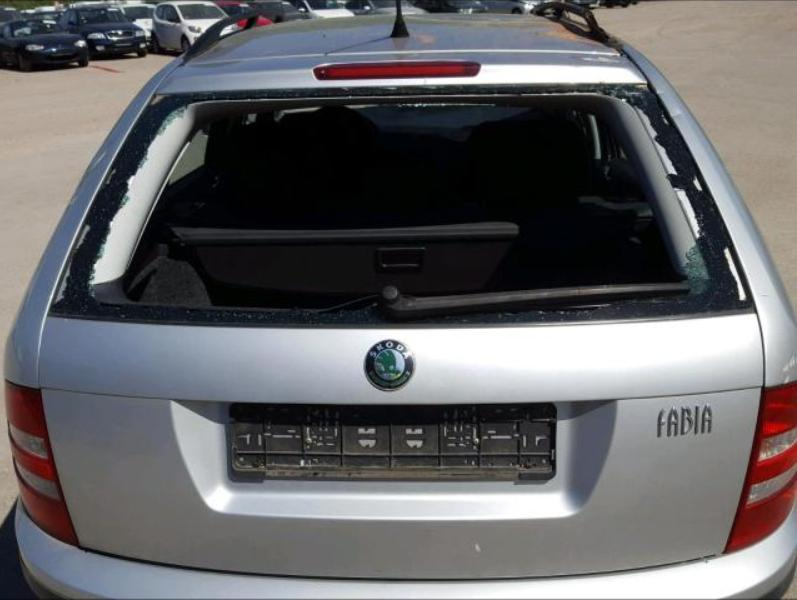Back-bumper: (8, 508, 794, 599)
License-plate: (227, 404, 556, 483)
Quarter-panel: (752, 279, 796, 389), (1, 296, 49, 389)
Roof: (183, 13, 629, 66)
Tail-light: (7, 384, 81, 544), (731, 378, 796, 560)
Trunk: (41, 310, 765, 584), (157, 52, 647, 94)
